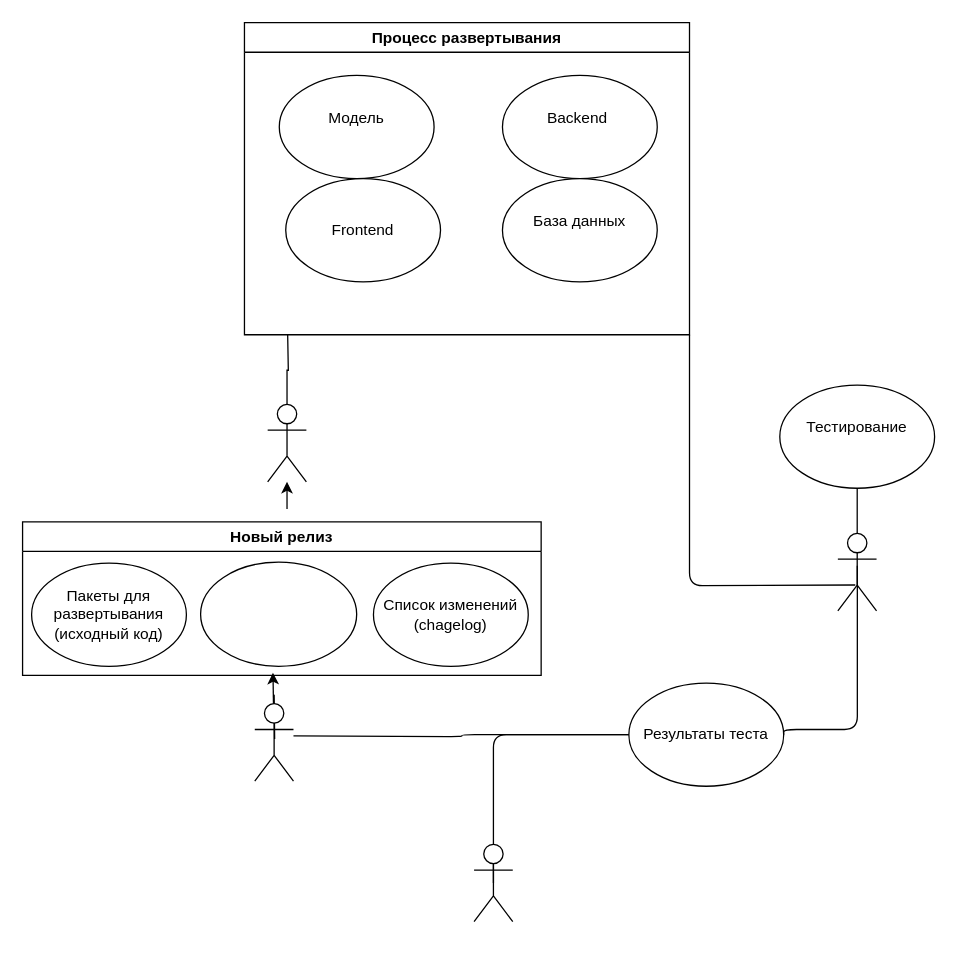
Some shapes in this 957 by 971 pixel diagram are drawn without their labels. Each missing label, with the centre of its shape:
DevOps: the point at 286,442
Документация (приложение): the point at 278,613
Менеджеры: the point at 493,882
Разработчик: the point at 273,741
Тестировщик: the point at 857,571
